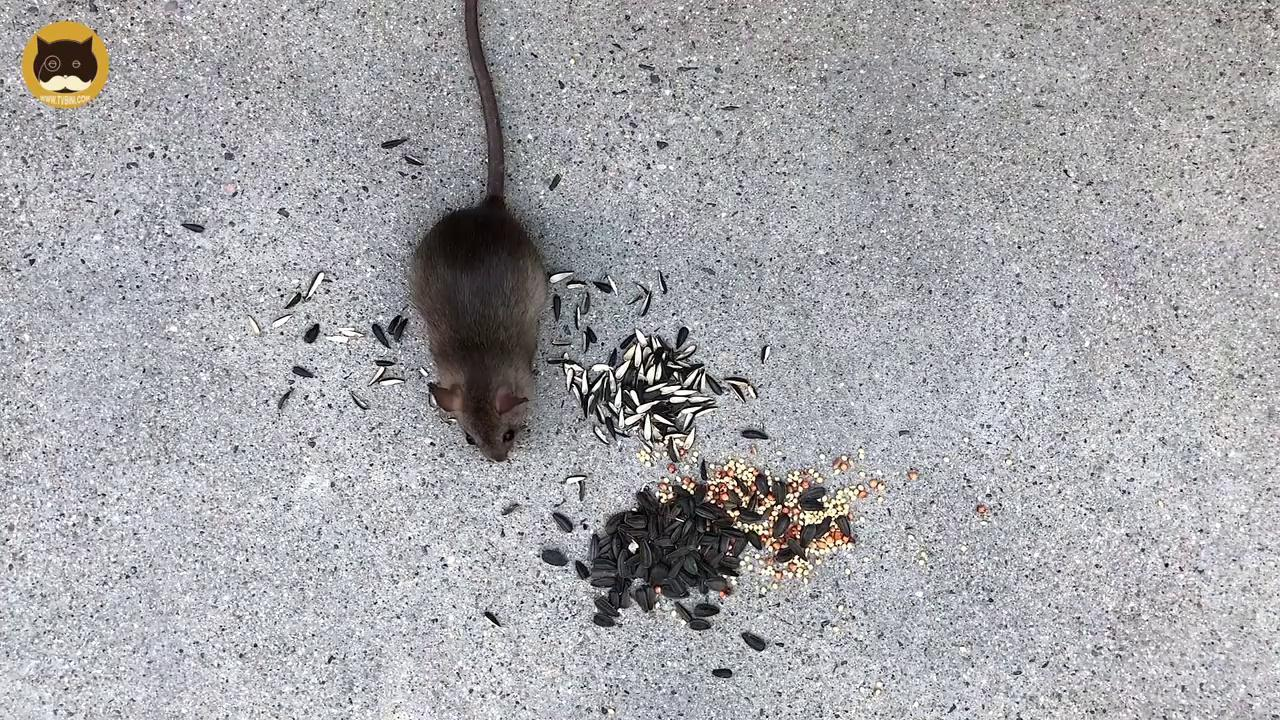rat: (411, 0, 542, 462)
